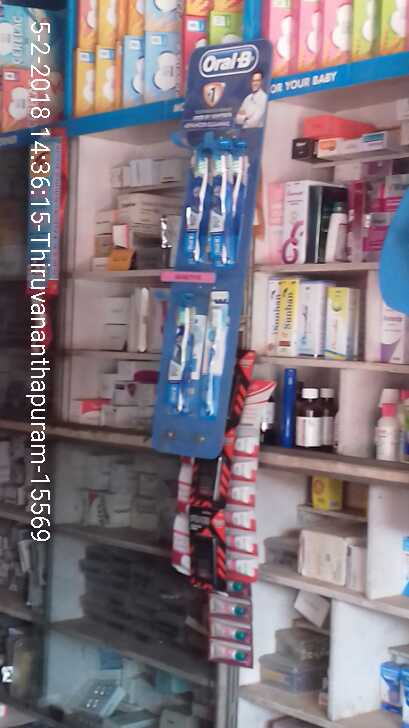oralb: (204, 291, 230, 414), (188, 141, 210, 266), (170, 305, 194, 415), (229, 138, 247, 270), (211, 139, 229, 266)
